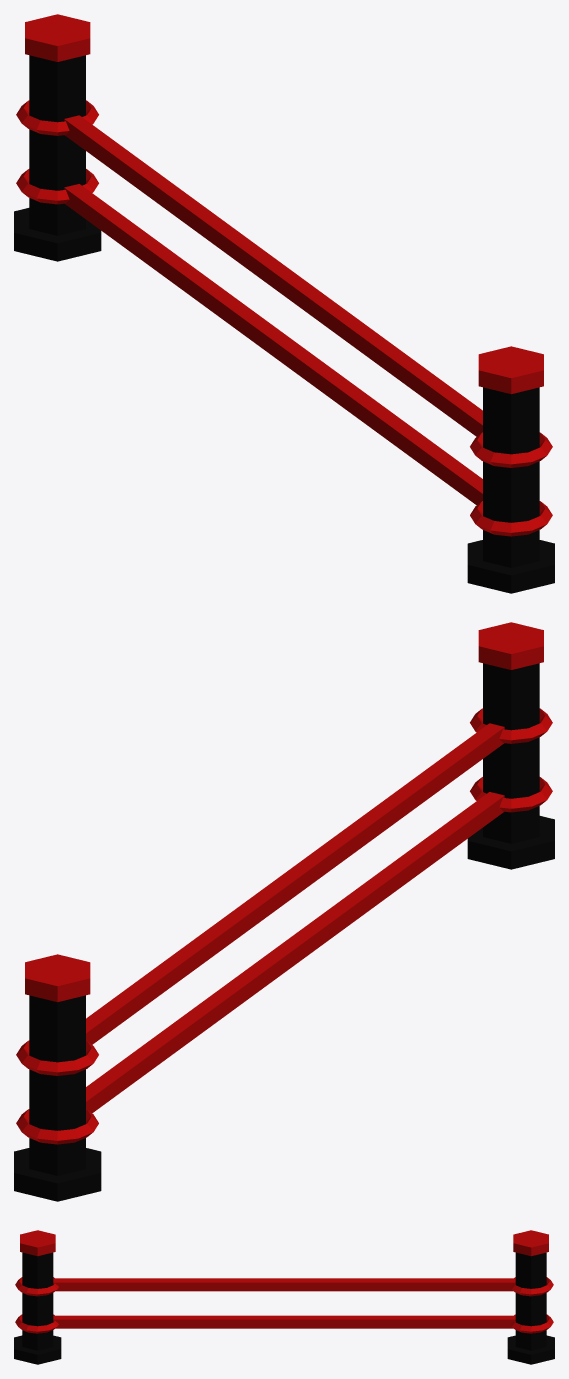
The model's file is laser_fence.glb.
The picture shows the model from 3 angles, top to bottom: view 1: azimuth 30°, elevation 25°; view 2: azimuth 150°, elevation 25°; view 3: azimuth 270°, elevation 25°; orthographic projection. The views are drawn at different scales.
Visible parts, largest first — view 1: LaserFence; view 2: LaserFence; view 3: LaserFence.
Part boxes in pixels (x1=…): LaserFence: x1=14, y1=14, x2=554, y2=593; LaserFence: x1=14, y1=622, x2=554, y2=1201; LaserFence: x1=14, y1=1230, x2=554, y2=1364.
Size of the model in its own units: 0.4 by 0.92 by 3.95.
